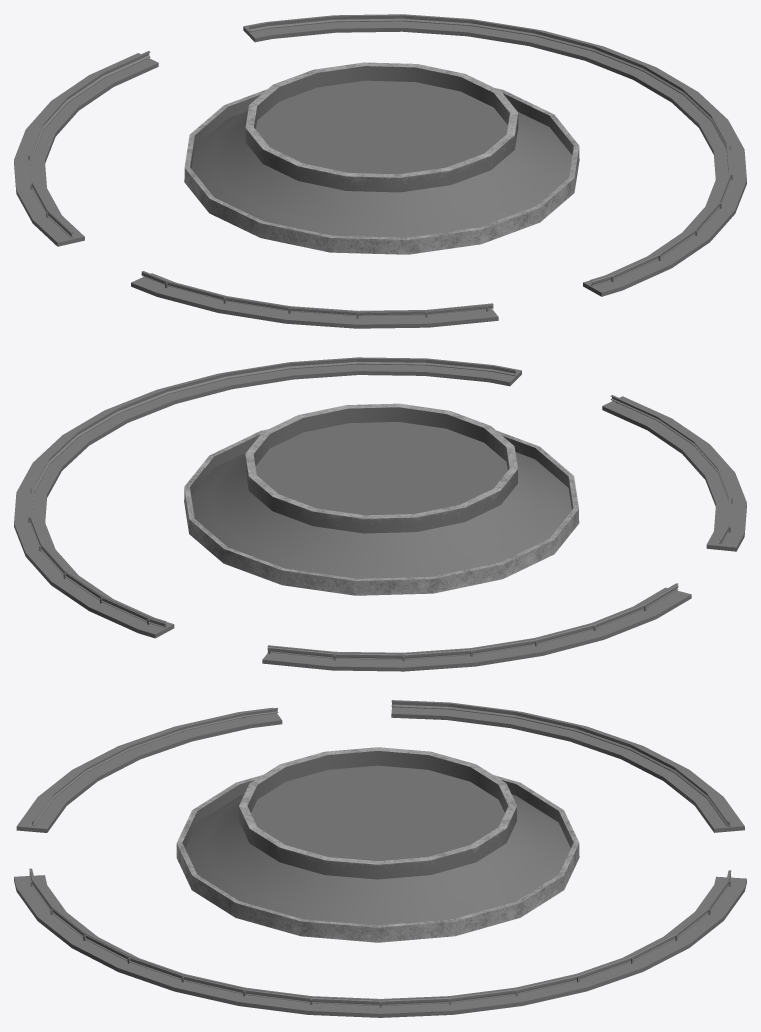
The model's file is SM_Roundabout.fbx.
3 renders of one model, top to bottom at view 1: azimuth 30°, elevation 25°; view 2: azimuth 150°, elevation 25°; view 3: azimuth 270°, elevation 25°, orthographic.
Parts seen in each view (by area): view 1: Cylinder_001, Circle, Circle_001; view 2: Cylinder_001, Circle, Circle_001; view 3: Cylinder_001, Circle, Circle_001.
Boxes of the visible parts, <box> form: Cylinder_001: <box>184,62,579,254</box>; Circle: <box>14,21,746,328</box>; Circle_001: <box>28,14,732,318</box>; Cylinder_001: <box>184,403,579,595</box>; Circle: <box>14,364,746,671</box>; Circle_001: <box>28,357,732,661</box>; Cylinder_001: <box>176,747,579,942</box>; Circle: <box>14,707,746,1017</box>; Circle_001: <box>29,700,731,1007</box>.
Bounding box in the file's own units: 8425 × 693 × 8329.
Materials: 2 (1 with a texture image).
